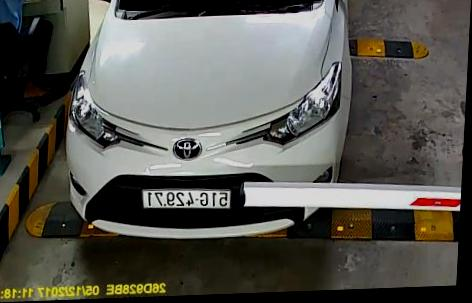License_Plate: (138, 182, 232, 217)
